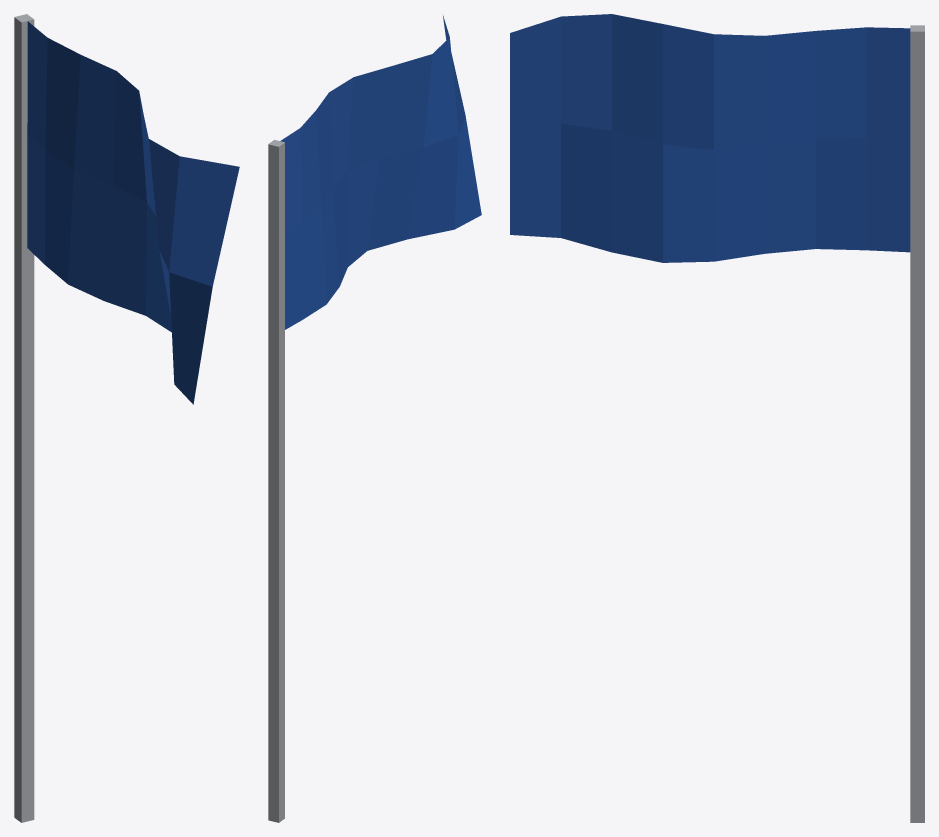
The model's file is mastro_3.glb.
3 views of the same model, side by side, from view 1: azimuth 30°, elevation 25°; view 2: azimuth 150°, elevation 25°; view 3: azimuth 270°, elevation 25° (orthographic). The views are drawn at different scales.
Visible parts, largest first — view 1: cor, aco; view 2: cor, aco; view 3: cor, aco.
Part boxes in pixels (x1=…): cor: x1=27, y1=21, x2=239, y2=404; aco: x1=14, y1=14, x2=34, y2=822; cor: x1=280, y1=15, x2=481, y2=329; aco: x1=268, y1=140, x2=284, y2=822; cor: x1=510, y1=14, x2=910, y2=262; aco: x1=910, y1=25, x2=924, y2=822.
Size of the model in its own units: 0.4555 by 6 by 2.85.
